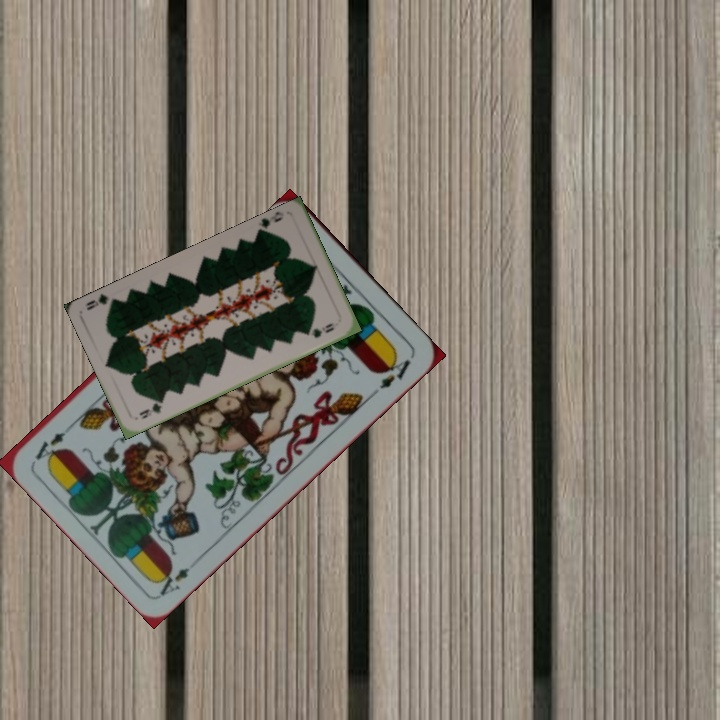EA: (152, 563, 193, 599)
G9: (253, 208, 287, 236), (135, 395, 167, 422)
